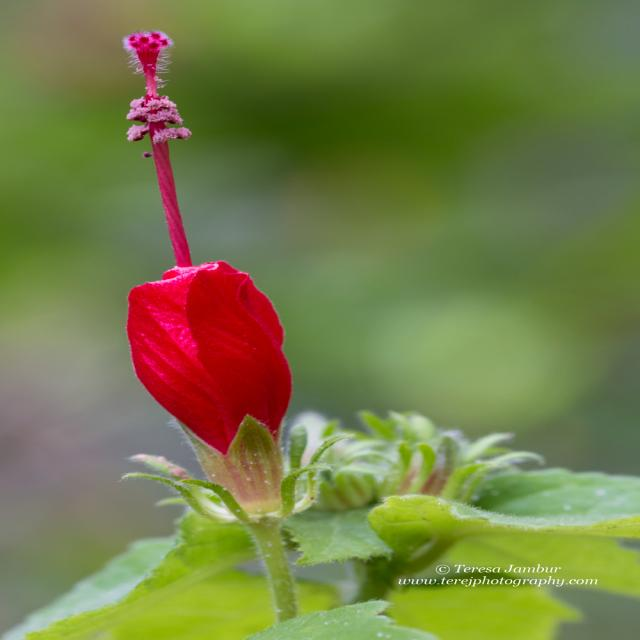Flower: (103, 27, 298, 544)
